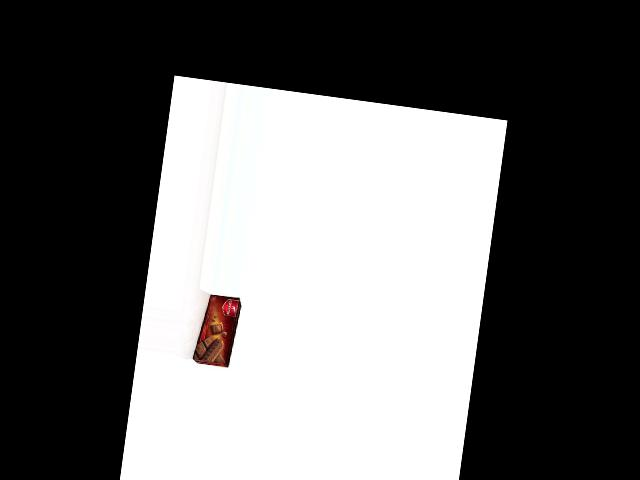chocolate: (191, 292, 242, 367)
